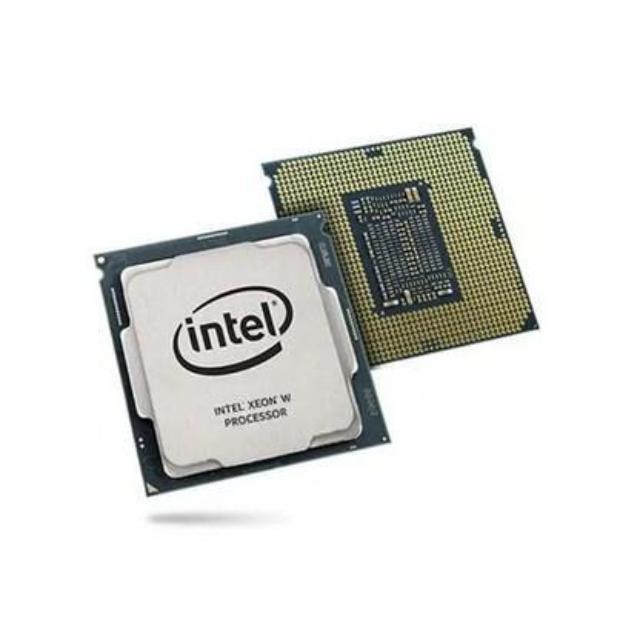CPU: (90, 208, 393, 494), (260, 126, 538, 371)
